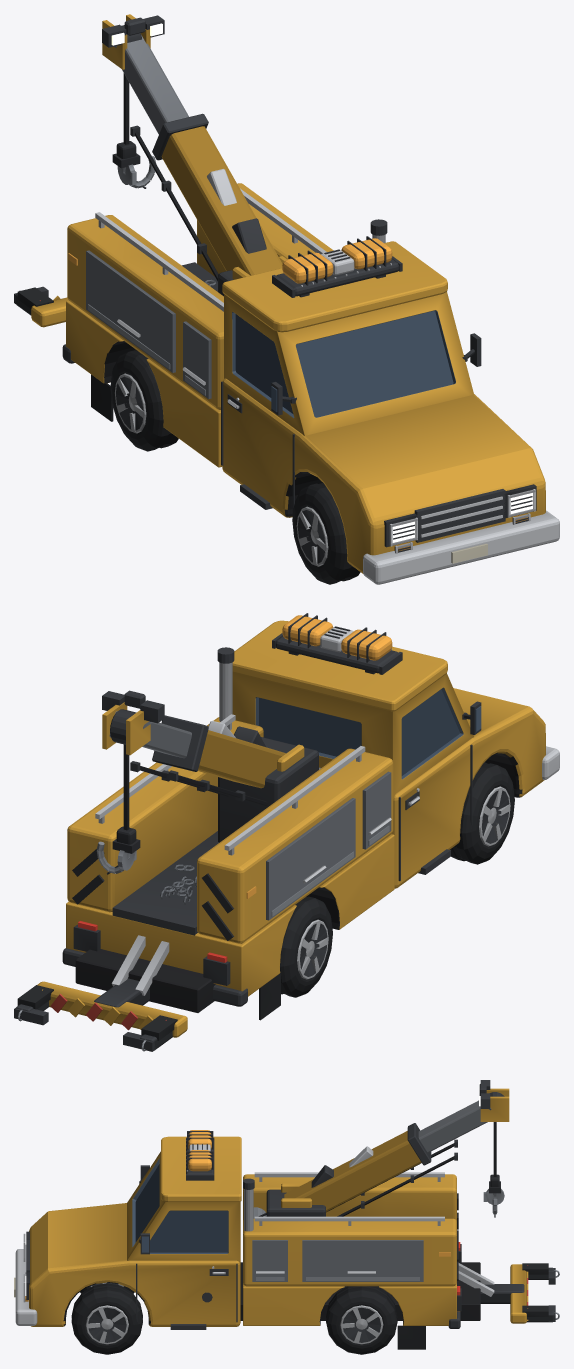
Rendered from tow-truck-near.glb.
The picture shows the model from 3 angles, top to bottom: view 1: azimuth 30°, elevation 25°; view 2: azimuth 150°, elevation 25°; view 3: azimuth 270°, elevation 25°; orthographic projection. The views are drawn at different scales.
Visible parts, largest first — view 1: TowTruck; view 2: TowTruck; view 3: TowTruck.
Part boxes in pixels (x1,y1,x2,y2): TowTruck: [14, 14, 559, 584]; TowTruck: [14, 613, 559, 1051]; TowTruck: [14, 1080, 559, 1354].
Size of the model in its own units: 1.39 by 2.23 by 4.59.
